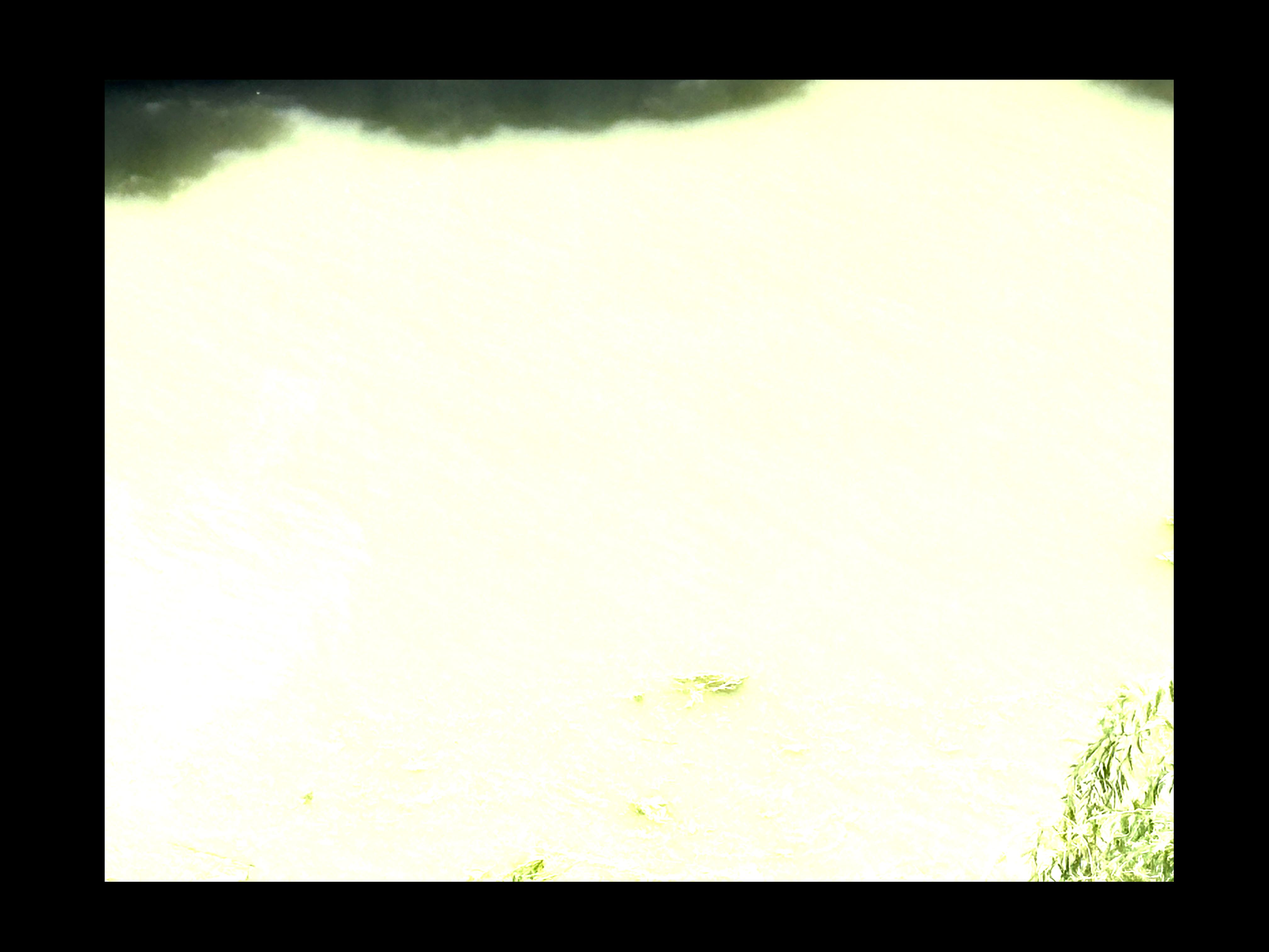Other: (681, 672, 742, 694), (627, 794, 672, 822)
